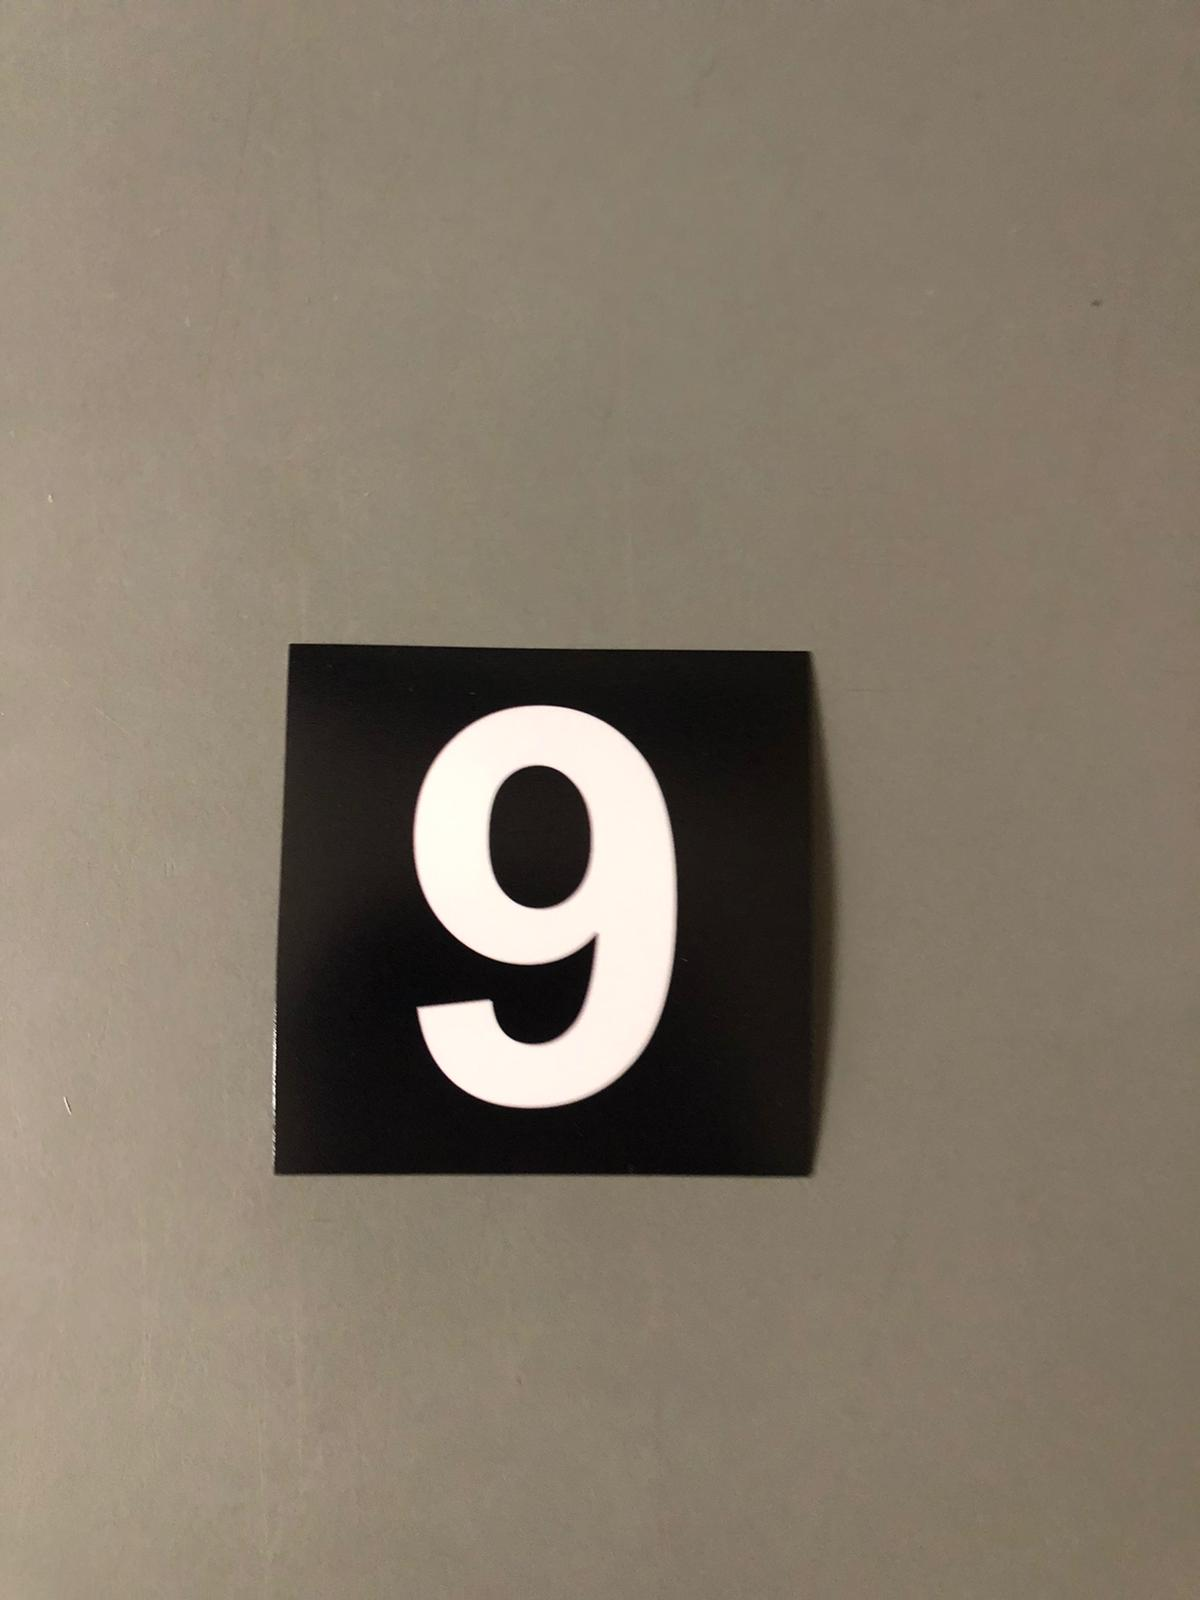Number 9: (290, 653, 793, 1150)
